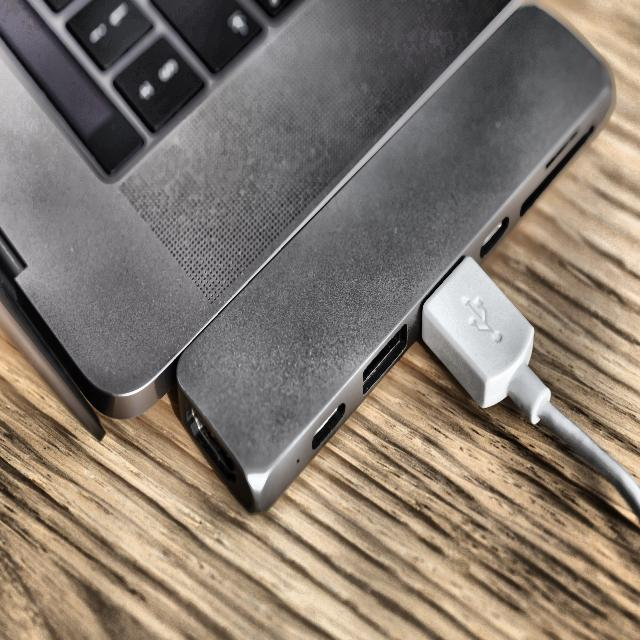laptop: (0, 0, 520, 418)
